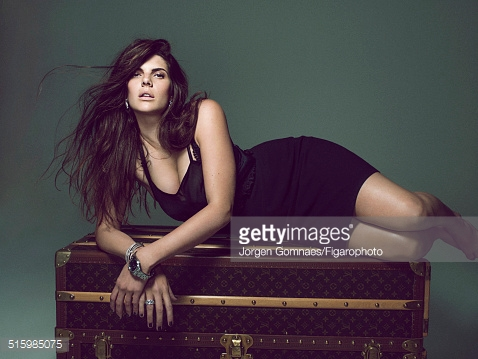deitado: (53, 28, 284, 323)
